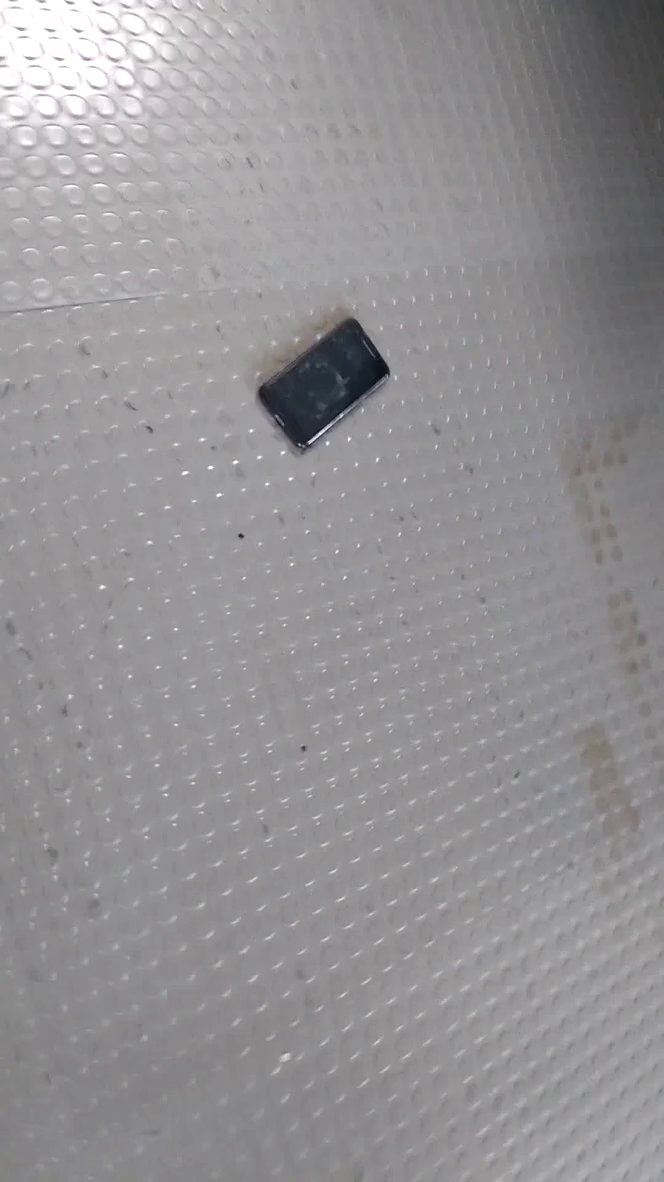phone: (252, 298, 408, 469)
